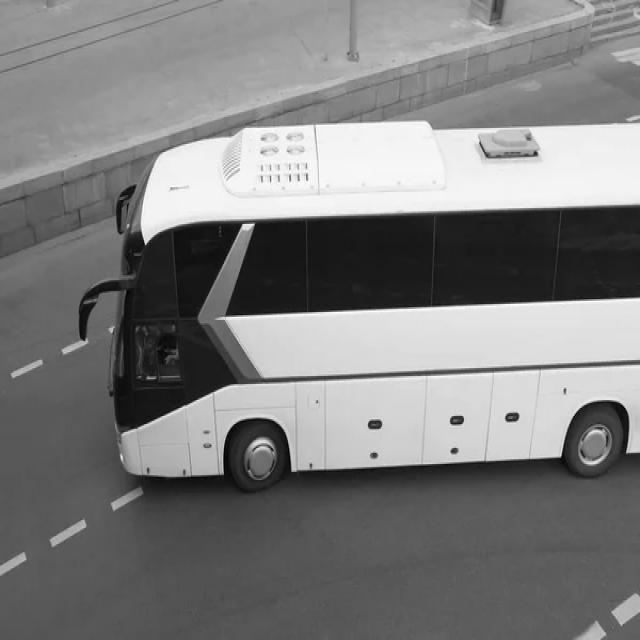Bus: (79, 122, 640, 492)
